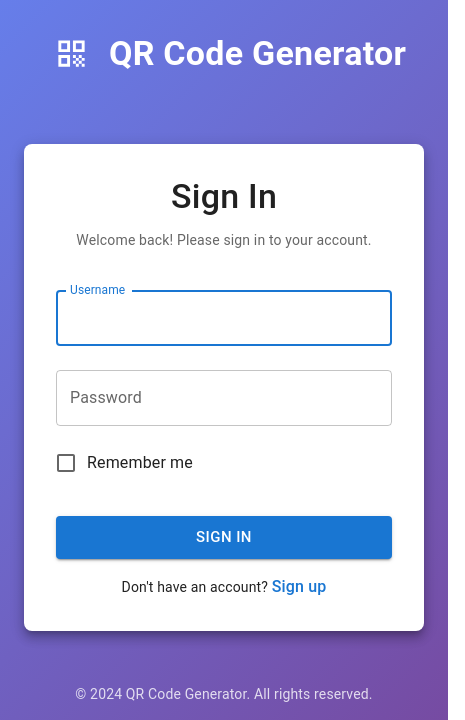
LoginForm › displays validation errors
Click the button "Sign In".
click(224, 537)  # box x1=56 y1=516 x2=392 y2=559
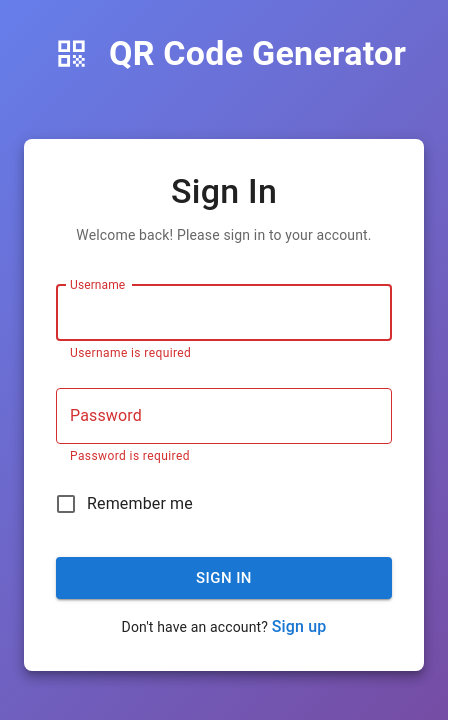
Expected: the text "Username is required" is shown, x1=70 y1=346 x2=191 y2=360
Expected: the text "Password is required" is shown, x1=70 y1=449 x2=190 y2=463
